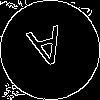A: (25, 25, 70, 78)
